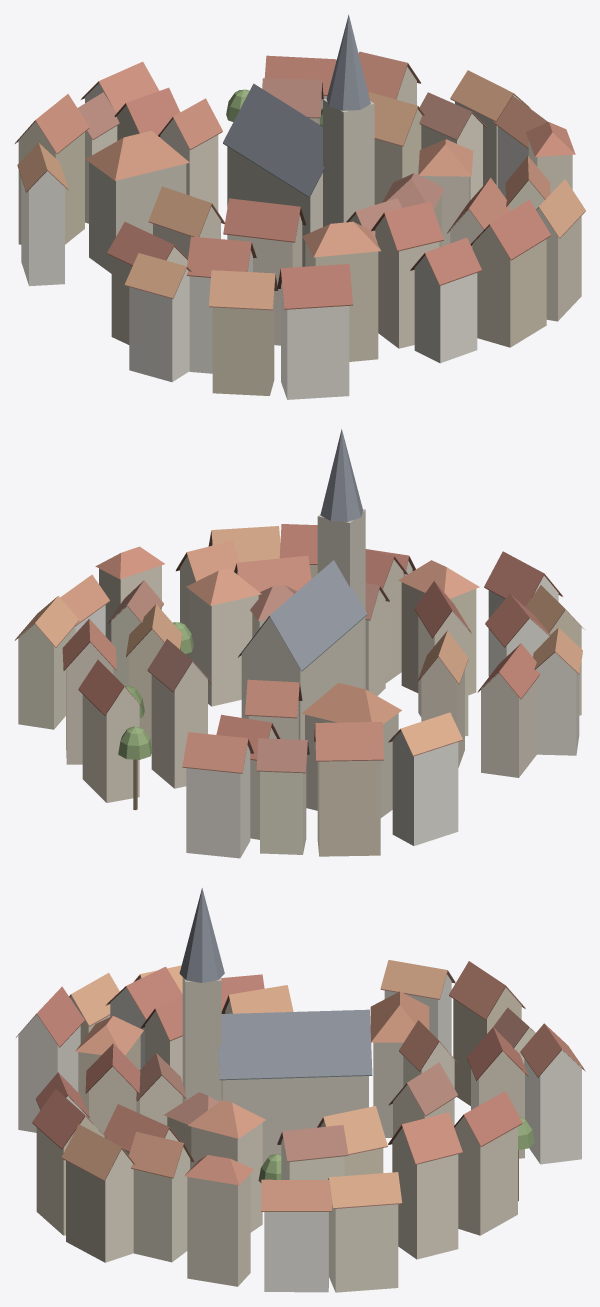
The model's file is city_b.glb.
3 views of the same model, one above another, from view 1: azimuth 30°, elevation 25°; view 2: azimuth 150°, elevation 25°; view 3: azimuth 270°, elevation 25° (orthographic). The views are drawn at different scales.
Visible parts, largest first — view 1: city_b; view 2: city_b; view 3: city_b.
Boxes of the visible parts, x1,y1,x2,y2 form: city_b: [15, 14, 585, 399]; city_b: [15, 429, 585, 858]; city_b: [16, 888, 585, 1292].
Size of the model in its own units: 41.42 by 23.8 by 42.96.
